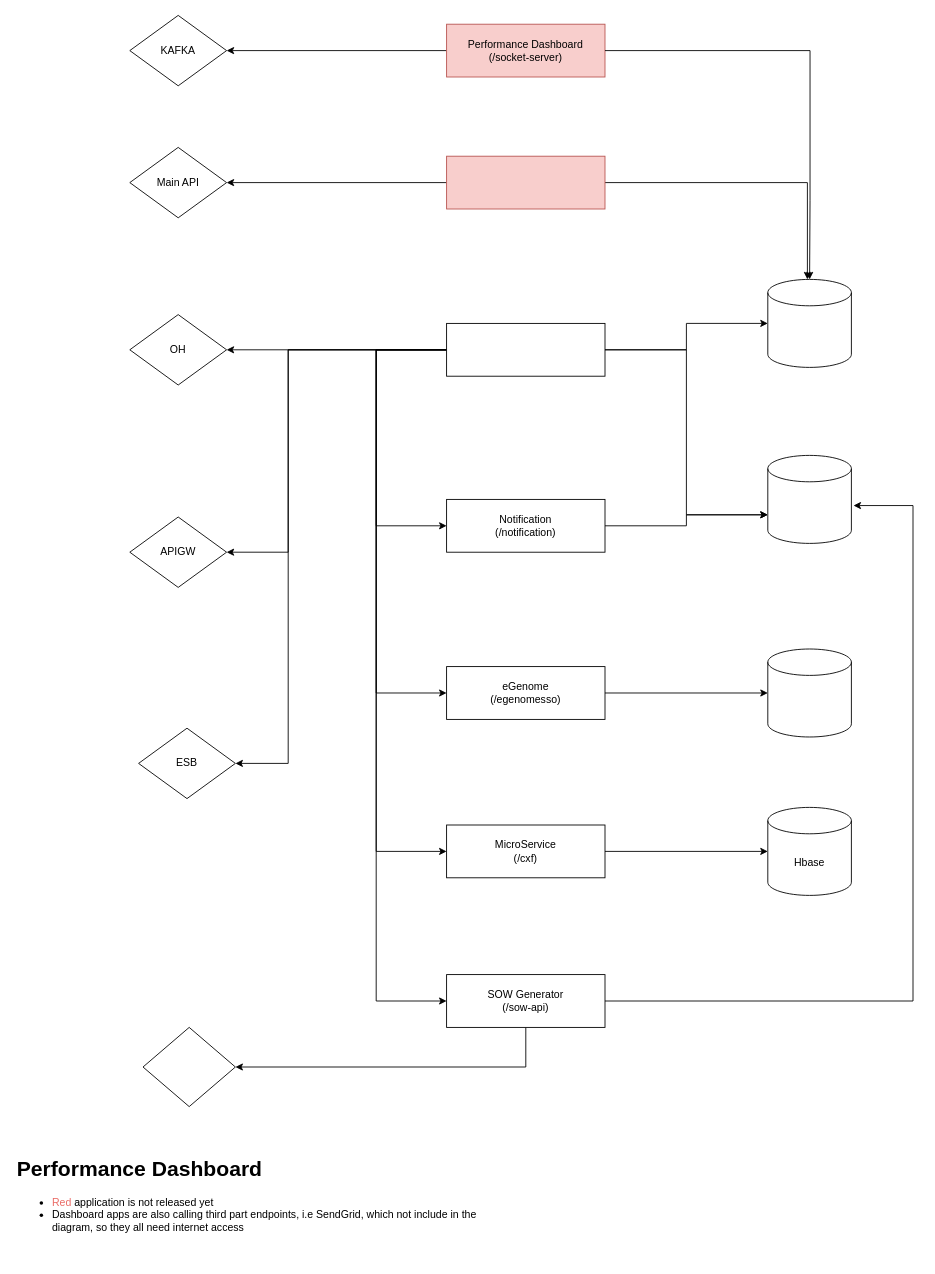
This 935x1274 diagram has some shape labels left out. Here are the shapes that lost their labels. From the top down, the box of each, then its label:
(446, 155, 605, 209): Performance Dashboard (/next)
(767, 279, 851, 367): Redis
(446, 323, 605, 376): Performance Dashboard (nodejs)
(767, 455, 851, 543): Doc DB
(767, 648, 851, 737): PostgreSQL
(142, 1027, 235, 1107): AWS S3
